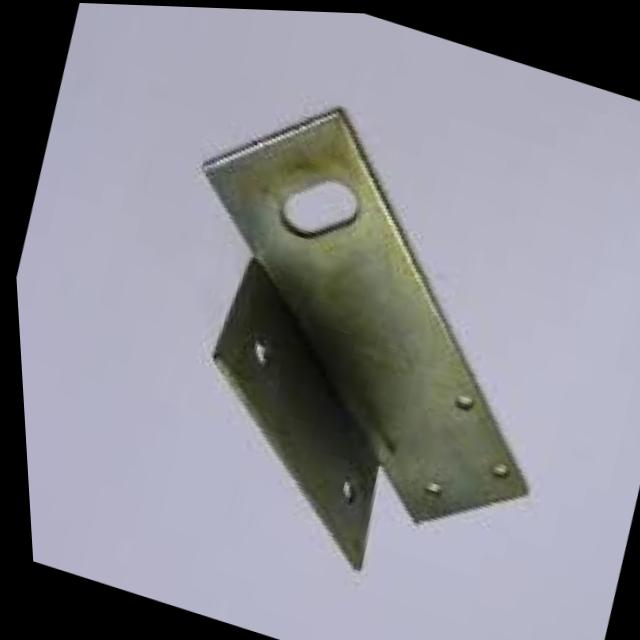holes: (269, 163, 360, 253), (328, 467, 355, 505), (240, 339, 267, 369), (446, 389, 469, 414), (483, 457, 504, 481), (418, 476, 437, 498)
